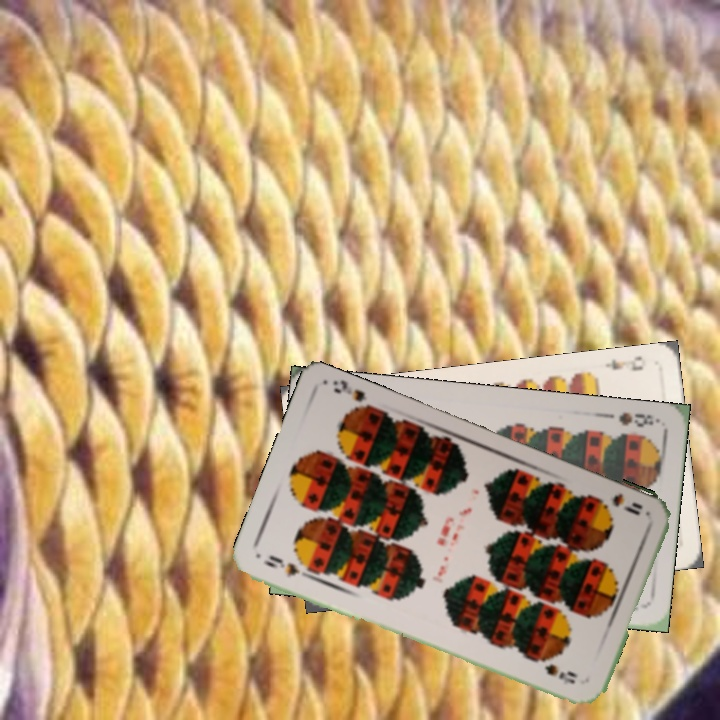E9: (600, 351, 645, 374)
S8: (615, 408, 662, 430)
S9: (259, 551, 314, 580), (591, 489, 645, 518)
